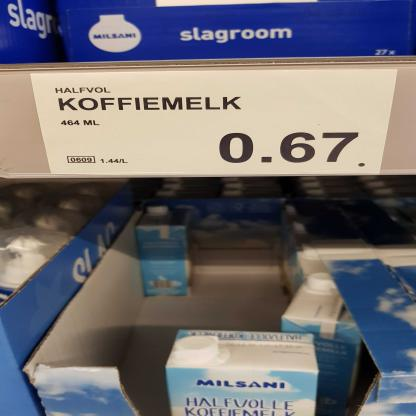prtg: (30, 70, 400, 176)
